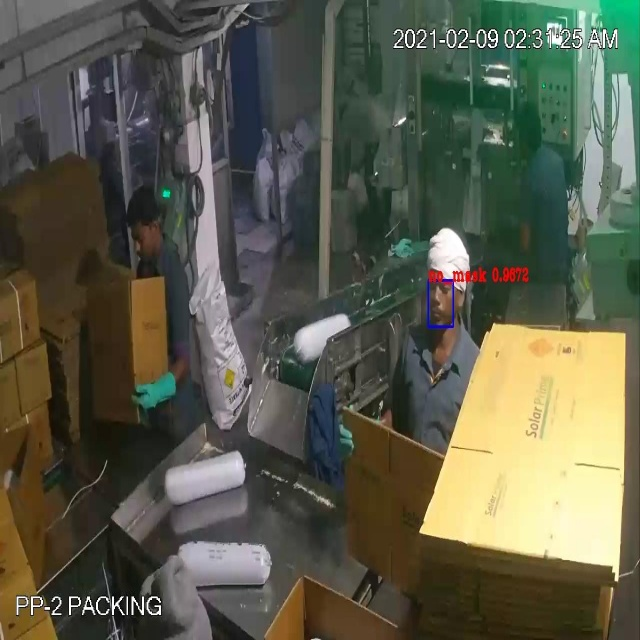Guantes: (119, 355, 190, 418)
